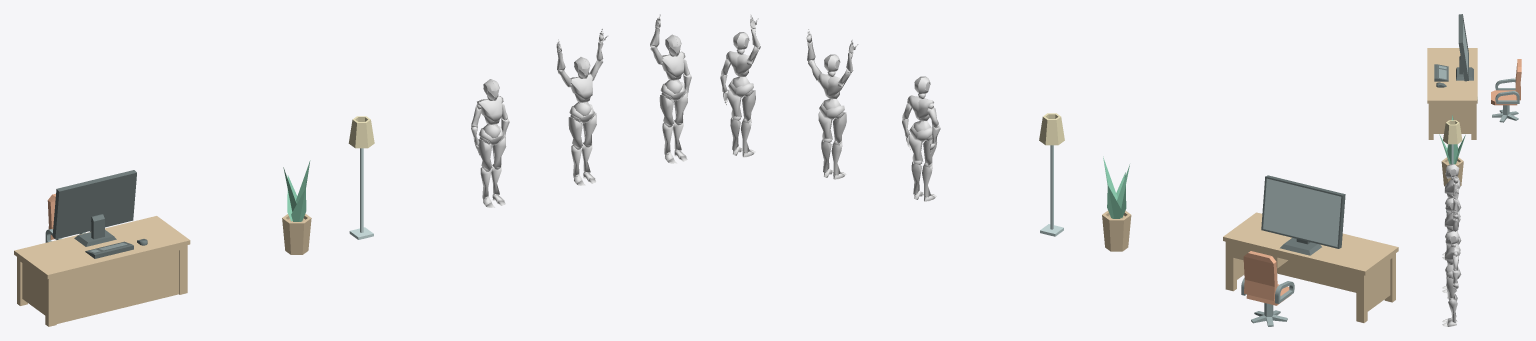
File: office.glb
3 views of the same model, side by side, from view 1: azimuth 30°, elevation 25°; view 2: azimuth 150°, elevation 25°; view 3: azimuth 270°, elevation 25° (orthographic). The views are drawn at different scales.
Parts seen in each view (by area): view 1: deskset, crowdB, crowdC, crowdA, plant, lamp; view 2: deskset, crowdB, crowdC, crowdA, plant, lamp; view 3: deskset, crowdC, crowdB, plant, lamp, crowdA.
Boxes of the visible parts, x1=… form: deskset: x1=14, y1=170, x2=190, y2=326; crowdB: x1=556, y1=29, x2=607, y2=185; crowdC: x1=650, y1=14, x2=691, y2=163; crowdA: x1=471, y1=79, x2=509, y2=207; plant: x1=282, y1=160, x2=311, y2=254; lamp: x1=348, y1=116, x2=374, y2=239; deskset: x1=1223, y1=175, x2=1398, y2=326; crowdB: x1=806, y1=29, x2=858, y2=179; crowdC: x1=720, y1=14, x2=760, y2=157; crowdA: x1=902, y1=76, x2=940, y2=201; plant: x1=1102, y1=156, x2=1131, y2=251; lamp: x1=1039, y1=113, x2=1064, y2=236; deskset: x1=1427, y1=14, x2=1521, y2=139; crowdC: x1=1442, y1=210, x2=1461, y2=326; crowdB: x1=1442, y1=173, x2=1461, y2=292; plant: x1=1439, y1=115, x2=1465, y2=186; lamp: x1=1443, y1=120, x2=1462, y2=212; crowdA: x1=1442, y1=164, x2=1461, y2=259.
Size of the model in its own units: 10.2 by 2.16 by 1.67.
